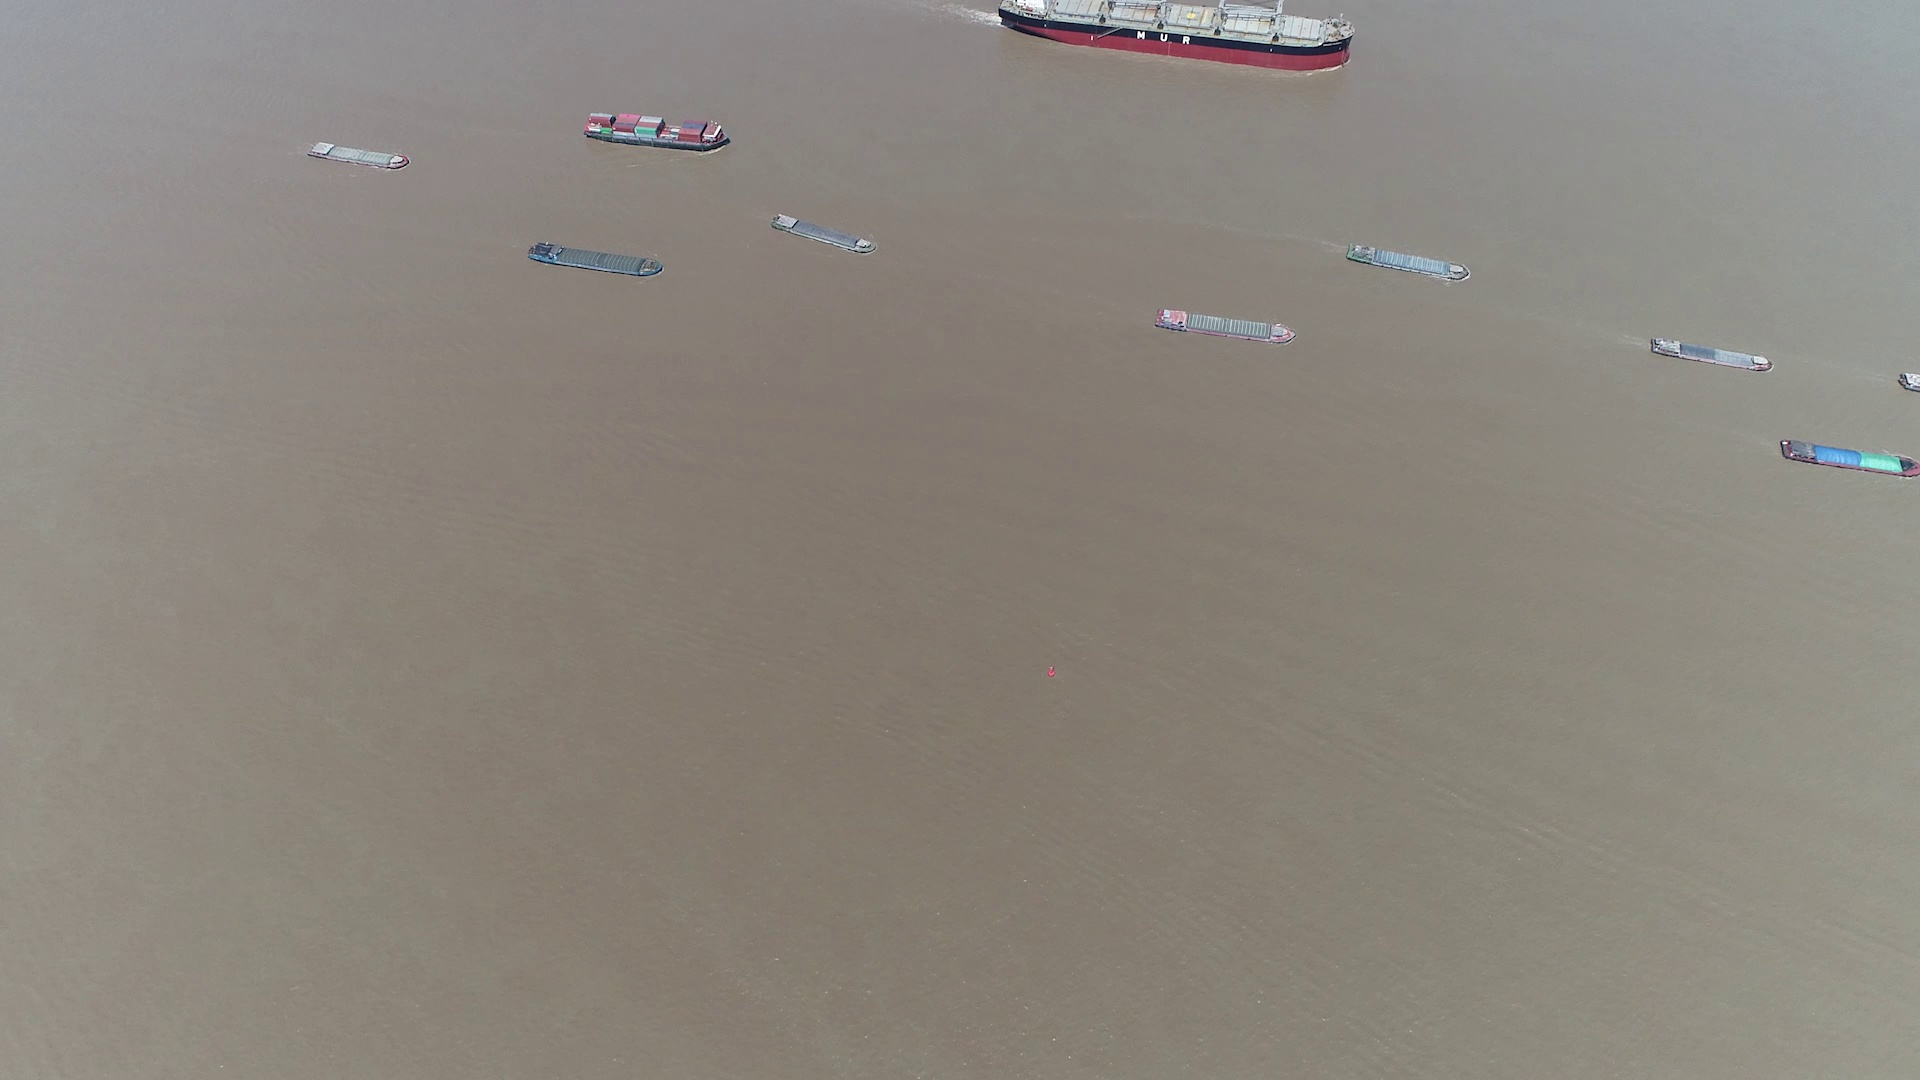ship: (997, 0, 1349, 69), (1780, 436, 1920, 477), (583, 112, 732, 150), (1345, 241, 1472, 285), (1155, 306, 1295, 344), (527, 241, 663, 280), (770, 215, 876, 257), (1648, 338, 1771, 372), (309, 140, 410, 169), (1899, 371, 1919, 394)
